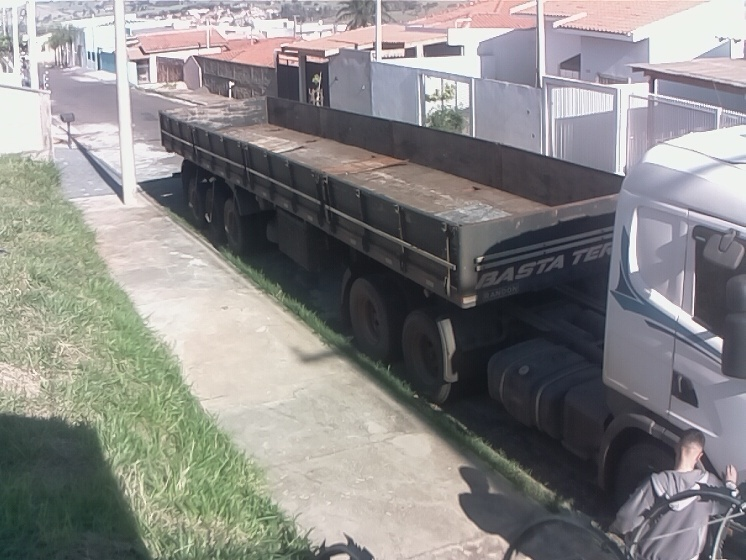person: (600, 427, 742, 560)
